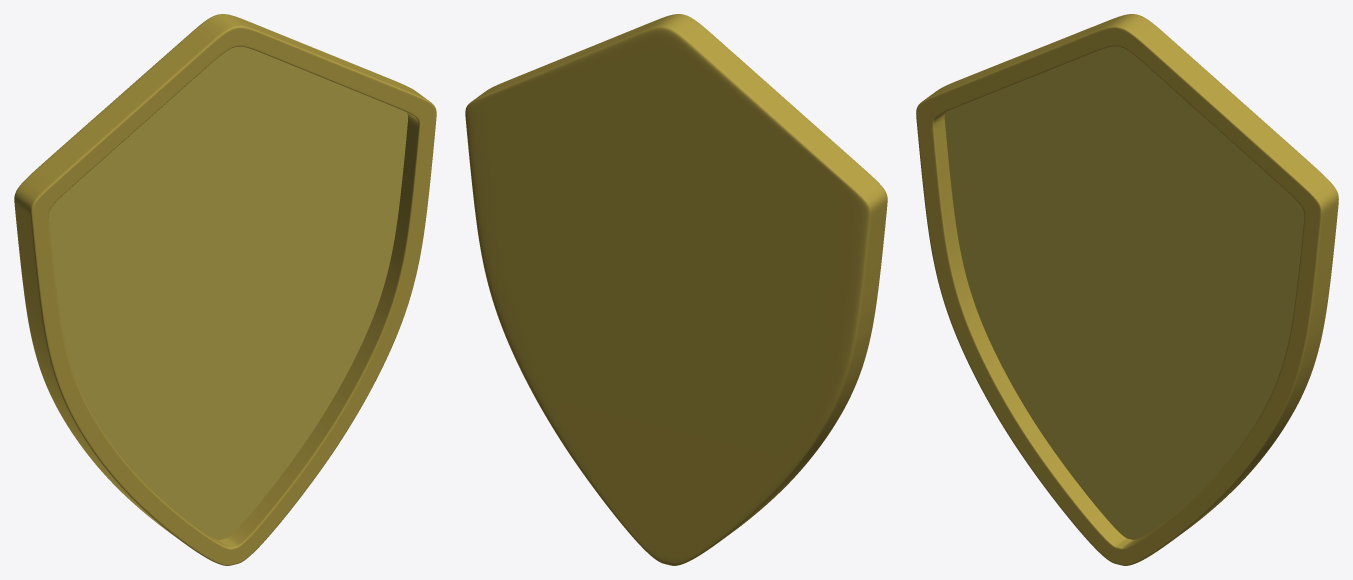
File: shield.fbx
3 renders of one model, left to right at view 1: azimuth 30°, elevation 25°; view 2: azimuth 150°, elevation 25°; view 3: azimuth 330°, elevation 25°, orthographic.
Visible parts, largest first — view 1: fuera, dentro; view 2: dentro; view 3: fuera, dentro.
Boxes of the visible parts, x1,y1,x2,y2 form: fuera: [49, 46, 407, 539]; dentro: [14, 14, 436, 565]; dentro: [465, 14, 887, 565]; fuera: [944, 46, 1304, 539]; dentro: [916, 14, 1338, 565].
Size of the model in its own units: 385 by 488 by 31.41.
